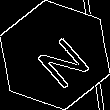N_NW: (22, 23, 88, 87)
